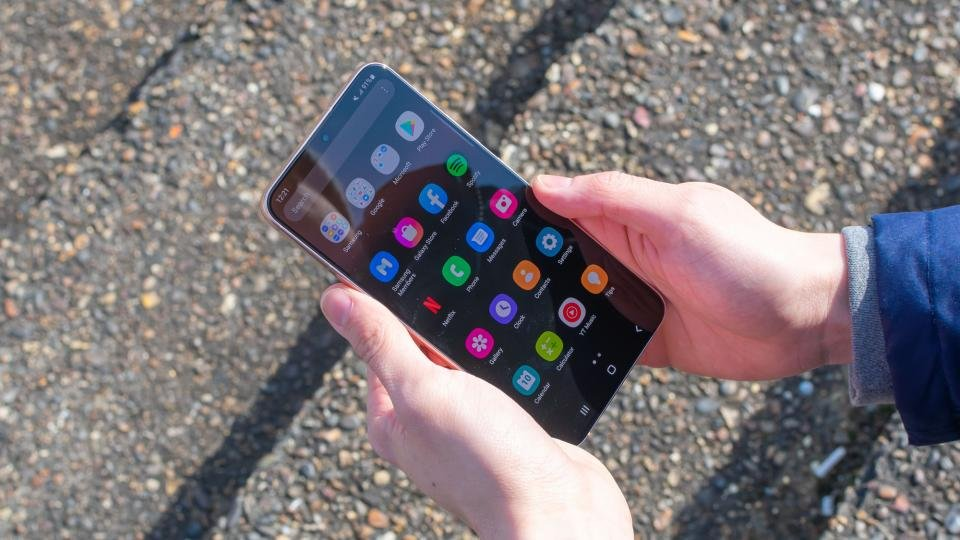phones: (232, 52, 683, 461)
